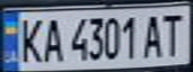0: (103, 14, 124, 61)
1: (121, 12, 142, 60)
3: (84, 14, 106, 61)
4: (66, 14, 87, 62)
A: (39, 15, 66, 64), (139, 11, 166, 58)
K: (15, 15, 45, 64)
T: (157, 10, 187, 57)
